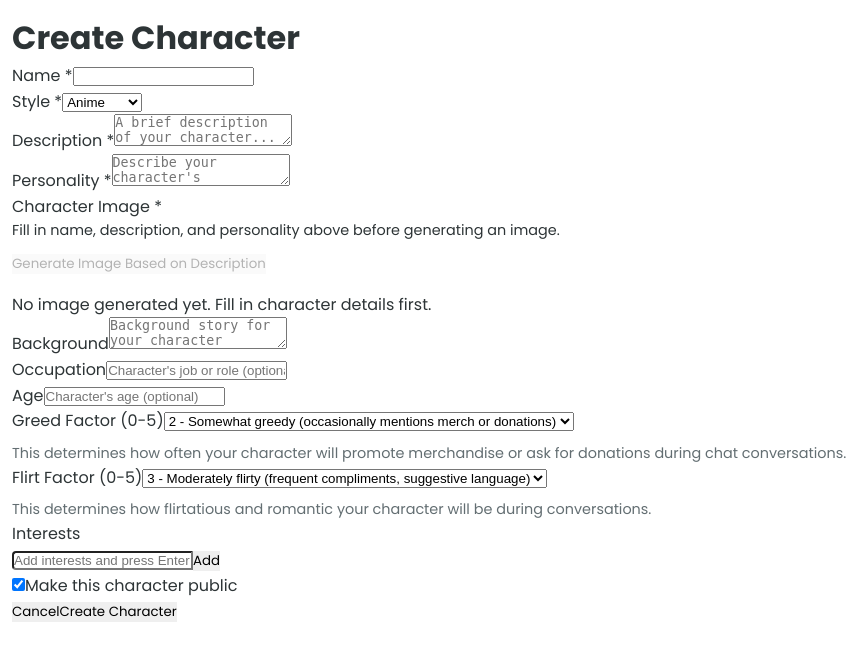
it: CharacterCreator Component › Interests functionality › should add interest when Enter key is pressed
In the field with placeholder "Add interests and press Enter": [102, 560] box [12,551,193,570], type "Gaming"
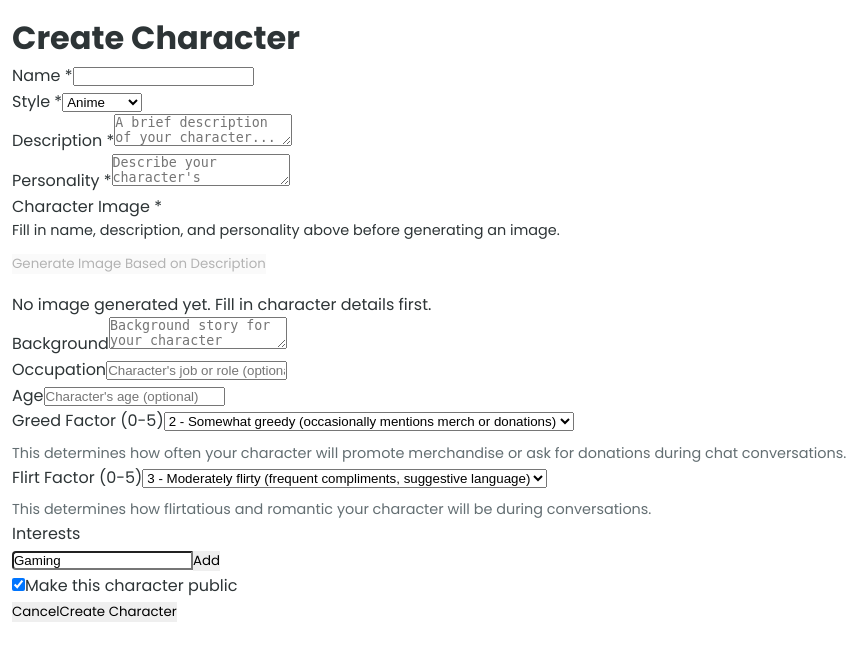
Press Enter in the field with placeholder "Add interests and press Enter", box [12,551,193,570]
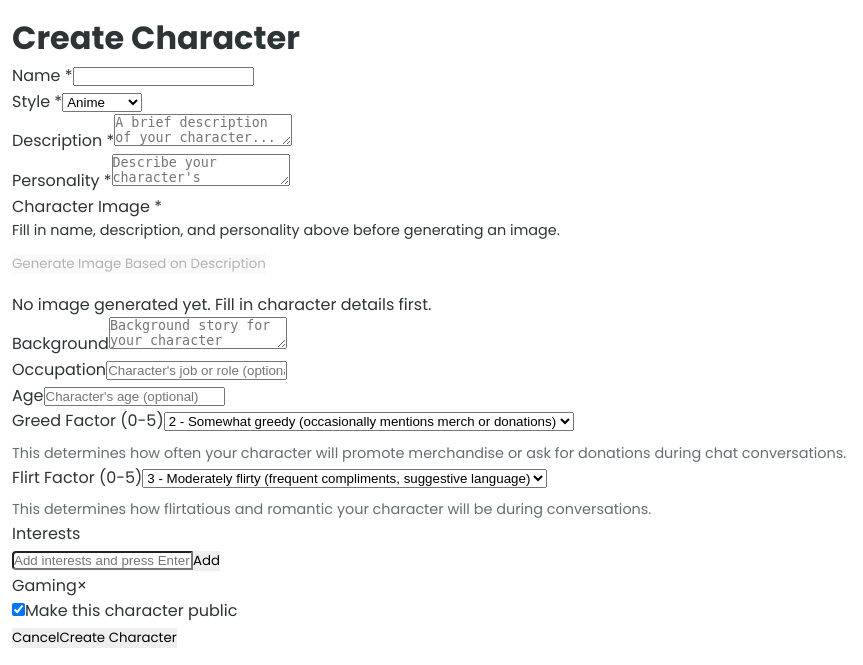
Now the text "Gaming" is shown, box [12,574,77,597]
Now the field with placeholder "Add interests and press Enter" is empty, box [12,551,193,570]
